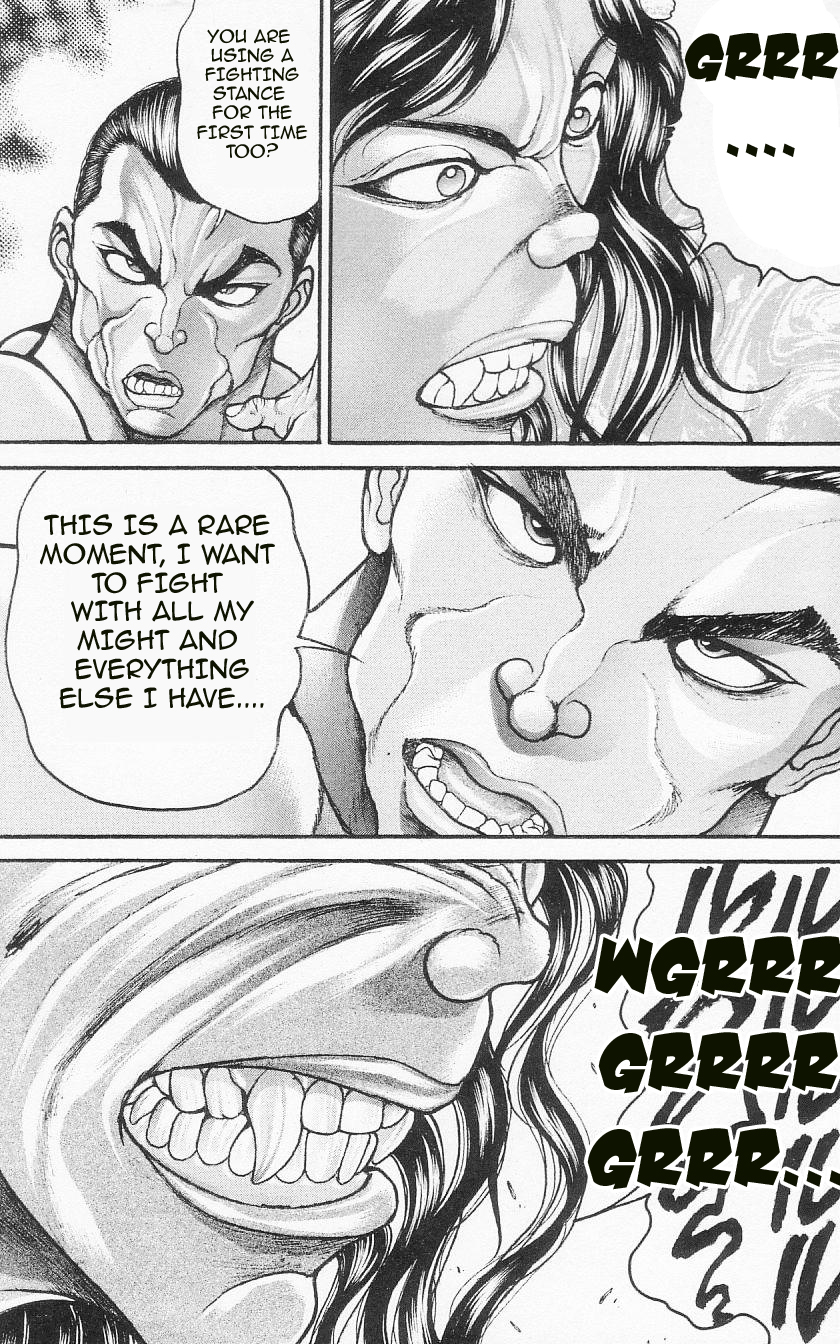Baloon: (4, 461, 310, 808), (653, 1, 837, 288), (172, 1, 327, 229)
Vignetta: (2, 855, 840, 1344), (2, 467, 840, 833), (329, 4, 840, 442), (1, 1, 316, 443)
